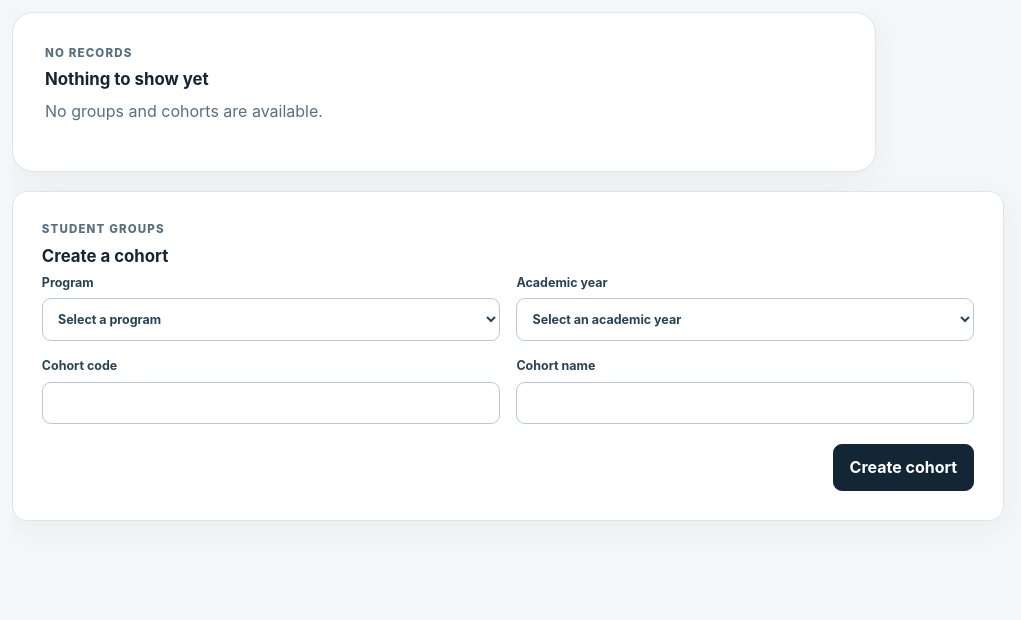
Test: CohortAdministration › creates a cohort for a program and academic year
Step 1. Select "Computer Science" in the dropdown labelled "Program" → (271, 319), box [42, 298, 500, 341]
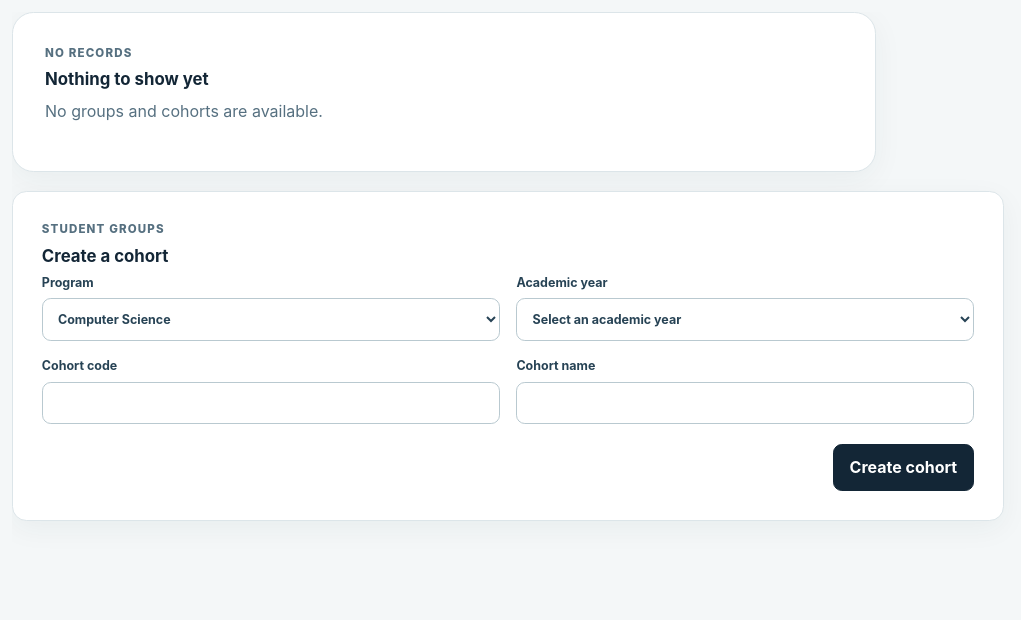
Step 2. Select "2026/2027" in the dropdown labelled "Academic year" → (745, 319), box [516, 298, 974, 341]
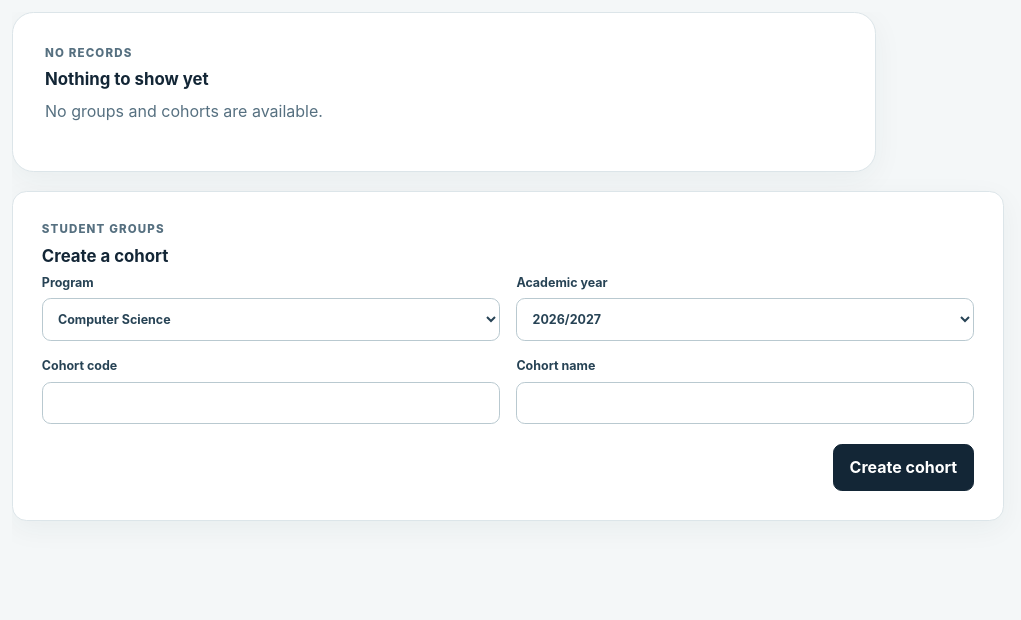
Step 3. Type "CS-26" into the field labelled "Cohort code" → (271, 403), box [42, 382, 500, 424]
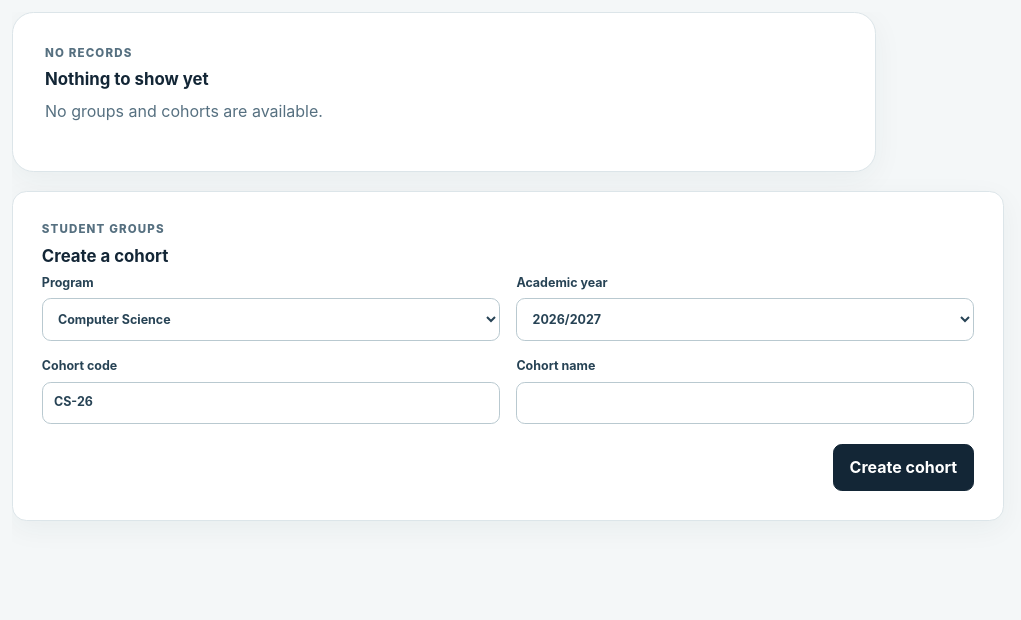
Step 4. Type "Computer Science 2026" into the field labelled "Cohort name" → (745, 403), box [516, 382, 974, 424]
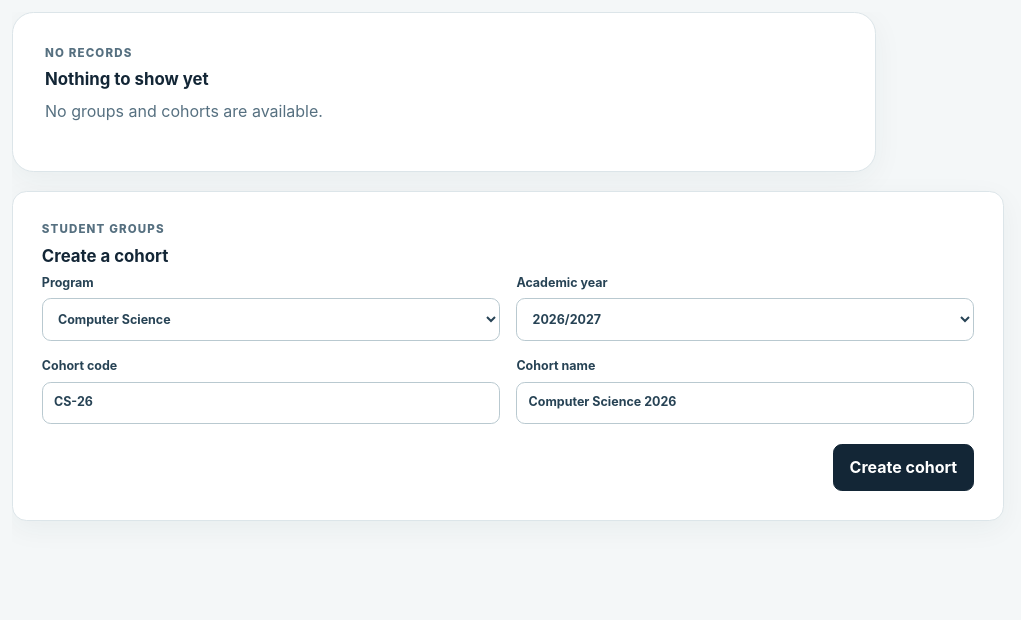
Step 5. Click the button "Create cohort" → (903, 467), box [832, 444, 974, 491]
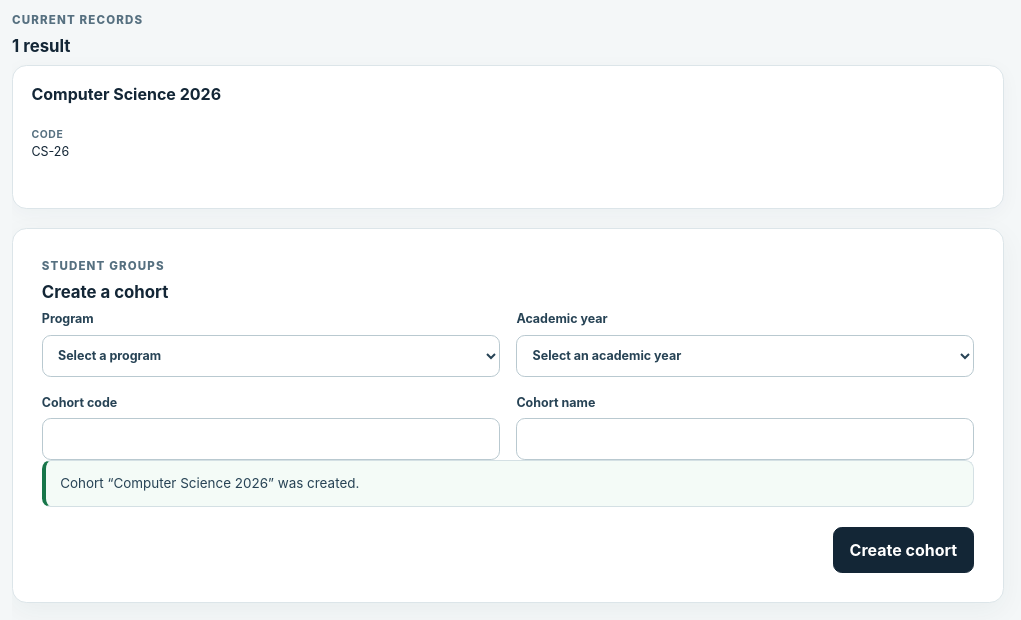
Now the text "Cohort “Computer Science 2026” was created." is shown, box [42, 460, 974, 507]
